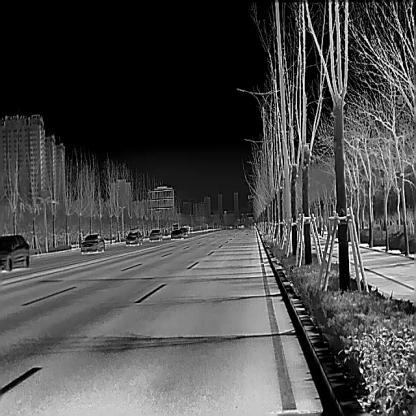car: (0, 233, 30, 271), (79, 233, 105, 255), (125, 230, 143, 246), (148, 228, 163, 242), (171, 229, 182, 241), (179, 227, 188, 237), (171, 223, 179, 231)
